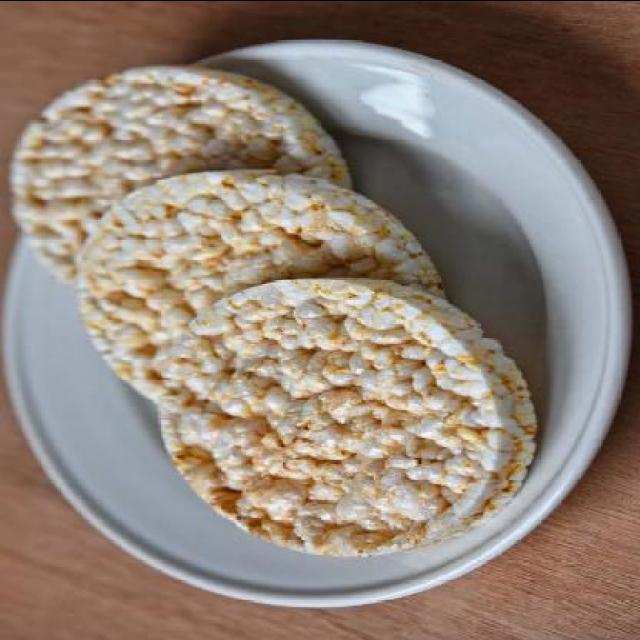Gallette di riso packaged: (154, 277, 536, 555), (72, 162, 450, 401), (10, 63, 339, 275)
